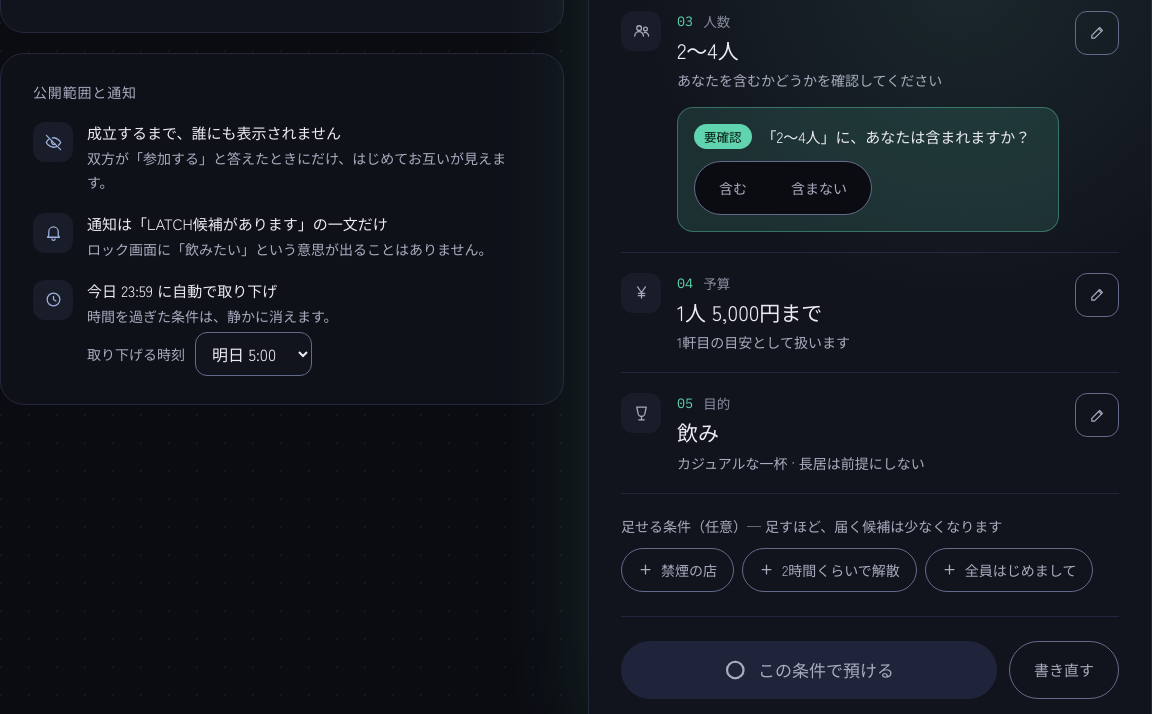
Test: 02読み解き確認(UI v2 Phase 2) › 期限selectはAPI応答で構成されラベルに反映される(D-01・3択)
(page scrolled)
Check: the text with id "expiryLabel" reads "今日 23:59", box left=87, top=280, right=153, bottom=301
Select "明日 5:00" in the dropdown with id "expiry" at (254, 354), box left=195, top=332, right=312, bottom=376
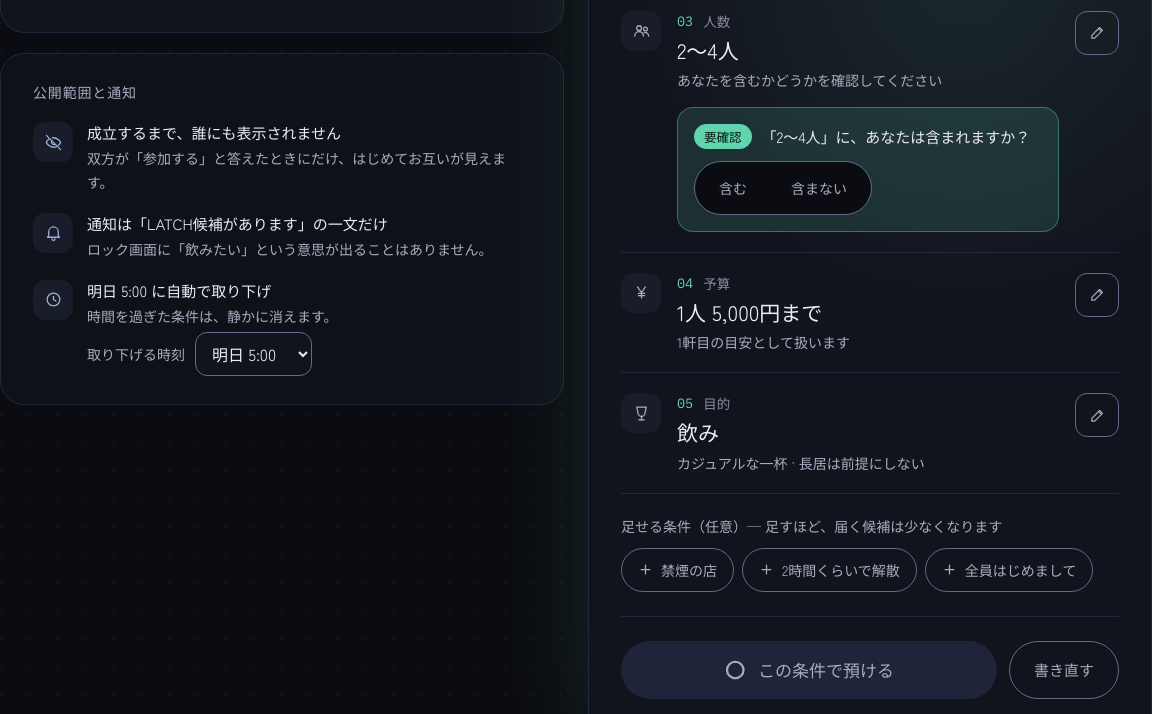
Check: the text with id "expiryLabel" reads "明日 5:00", box left=87, top=280, right=147, bottom=301
